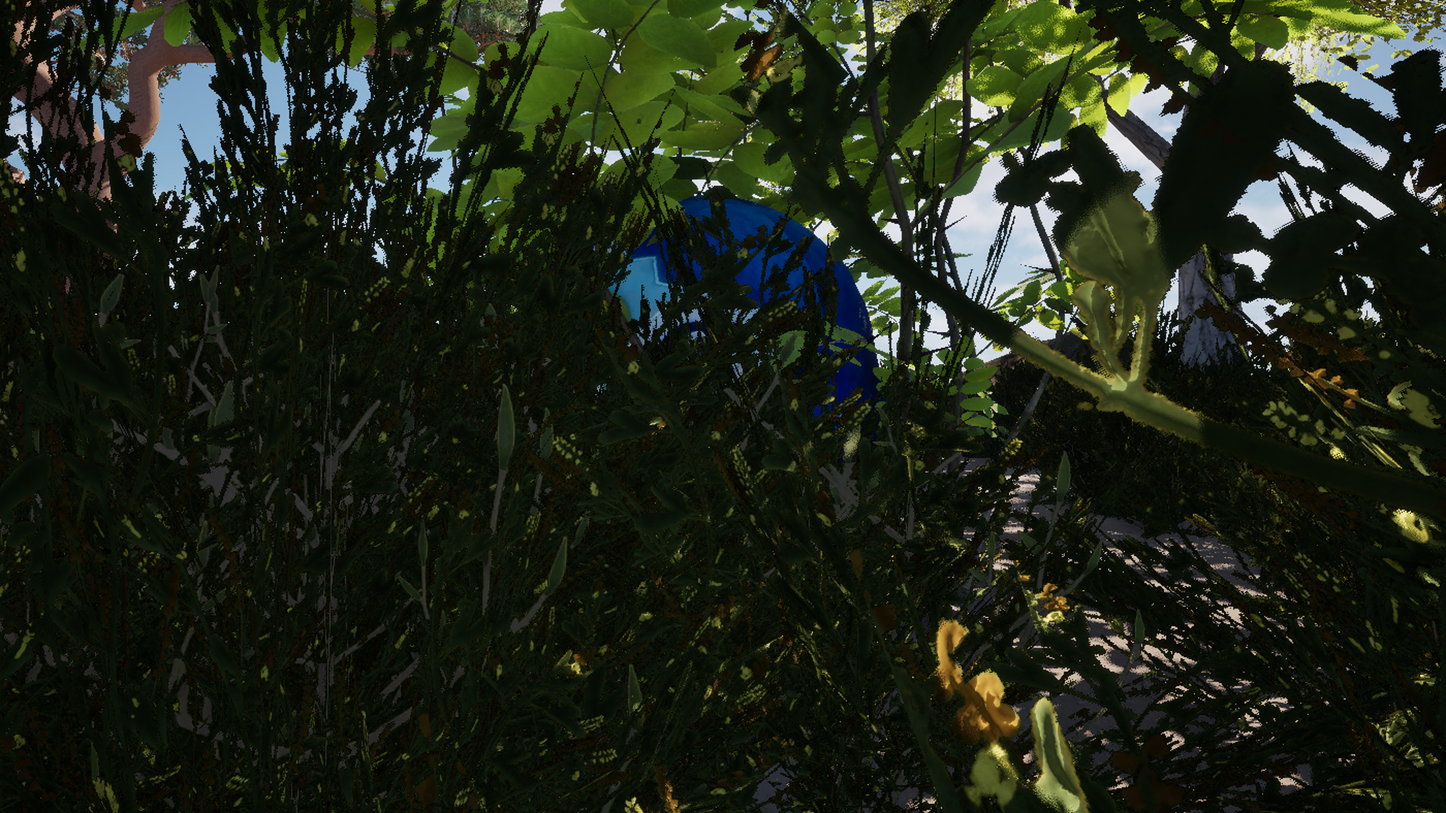Piplup: (434, 0, 1088, 813)
